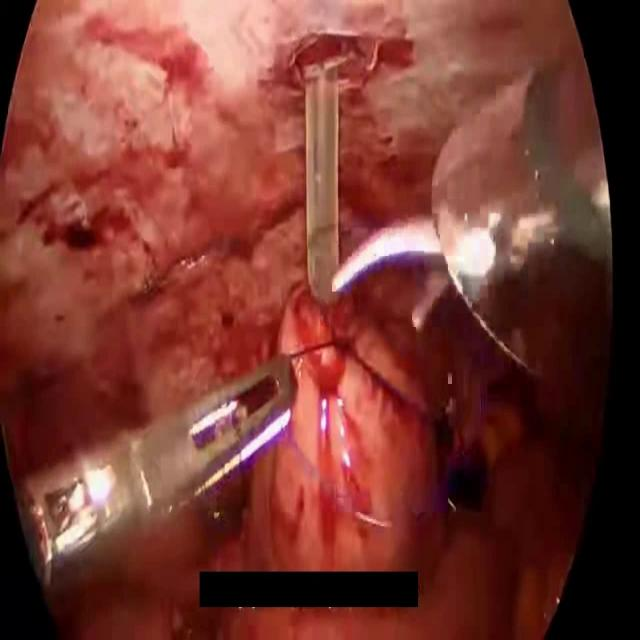surgical-area: (0, 0, 610, 639)
surgical-tool: (332, 68, 611, 384), (16, 356, 295, 594), (306, 48, 343, 307)
